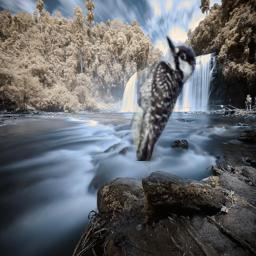Woodpecker: (119, 31, 196, 161)
